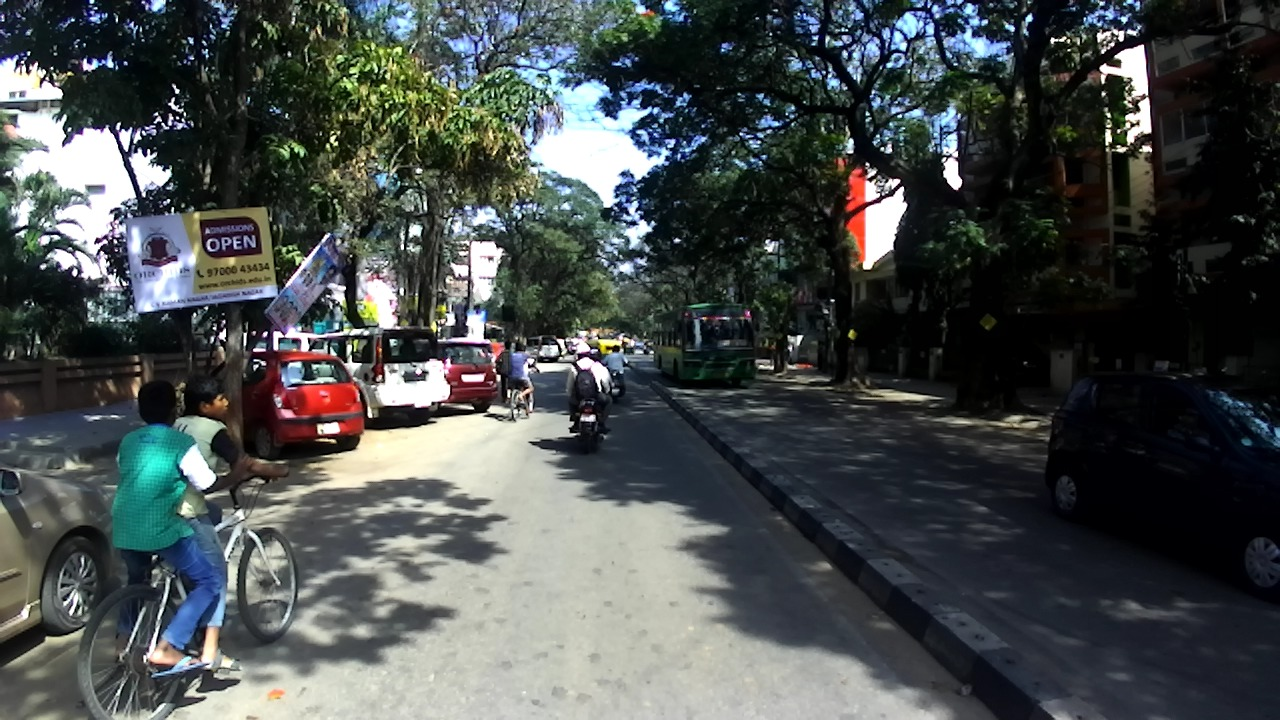autorickshaw: (600, 340, 621, 360), (624, 338, 635, 354)
bicycle: (77, 472, 298, 720), (510, 367, 535, 421)
bus: (652, 303, 759, 387)
car: (1043, 369, 1280, 604), (1, 466, 116, 642), (200, 348, 366, 459), (307, 326, 453, 426), (437, 336, 498, 413), (225, 330, 331, 359), (1017, 342, 1049, 387), (522, 334, 562, 361), (613, 331, 629, 343), (643, 342, 653, 354), (635, 340, 644, 349)
motorcycle: (564, 365, 617, 454), (601, 360, 625, 403)
person: (495, 342, 512, 401), (768, 341, 774, 366)
rider: (108, 381, 254, 678), (173, 374, 290, 678), (559, 341, 611, 434), (503, 341, 533, 404), (520, 340, 538, 414), (591, 347, 613, 401), (602, 345, 629, 374), (584, 335, 600, 350)
vehicle fallback: (488, 341, 516, 371), (565, 337, 579, 354)
